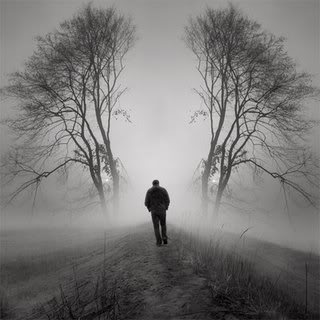Humano: (143, 178, 173, 249)
